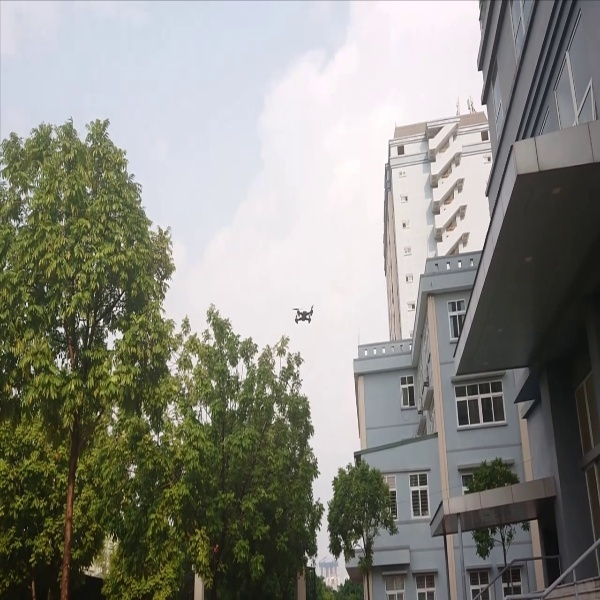drone: (285, 300, 331, 331)
